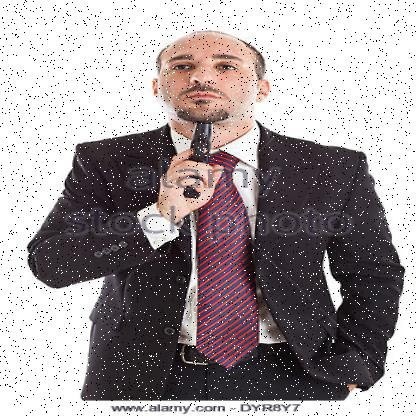pistol: (182, 122, 222, 201)
